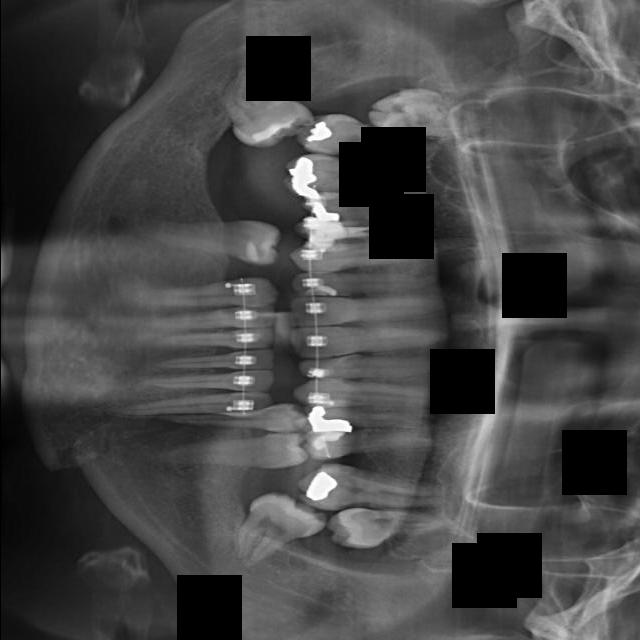3M ESPE Implant: (358, 80, 460, 141)
AGS Medikal Implant: (205, 479, 319, 582)
Amalgam filling: (289, 114, 432, 163)
Anthogyr Implant: (166, 433, 298, 477)
Bicon Implant: (189, 405, 299, 441)
BioHorizons Implant: (120, 393, 270, 418)
BioLife Implant: (138, 371, 277, 389)
Biomet 3i Implant: (160, 348, 276, 384)
Blue Sky Bio Implant: (141, 328, 272, 349)
Camlog Implant: (159, 305, 270, 342)
Caries: (295, 352, 427, 383)
Composite filling: (140, 276, 277, 319)
Crown: (159, 199, 281, 266)
DENTSPLY Implant: (284, 141, 420, 201)
Dentium Implant: (212, 60, 317, 163)
Euroteknika Implant: (307, 192, 428, 220)
Filling: (301, 218, 428, 241)
Frontier Implant: (295, 235, 453, 275)
Hiossen Implant: (297, 381, 439, 414)
Implant: (291, 291, 430, 327)
Implant Direct: (294, 270, 432, 299)
Keystone Dental Implant: (289, 328, 437, 357)
MIS Implant: (299, 406, 440, 429)
Mandible: (299, 418, 423, 462)
Megagen Implant: (301, 457, 446, 514)
Neodent Implant: (332, 510, 455, 548)
